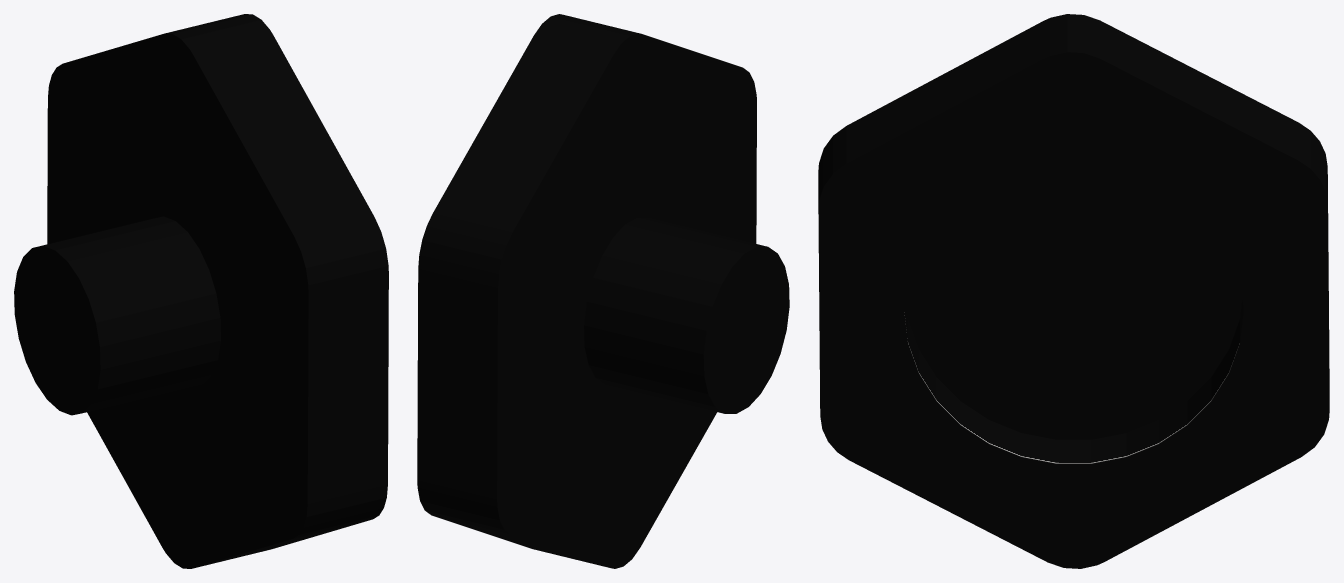
Rendered from right_arm_link6.usd.sapien.glb.
The picture shows the model from 3 angles, left to right: view 1: azimuth 30°, elevation 25°; view 2: azimuth 150°, elevation 25°; view 3: azimuth 270°, elevation 25°; orthographic projection. The views are drawn at different scales.
Visible parts, largest first — view 1: Mesh; view 2: Mesh; view 3: Mesh.
Part boxes in pixels (x1,y1,x2,y2): Mesh: [14, 14, 388, 568]; Mesh: [417, 14, 789, 568]; Mesh: [818, 14, 1329, 568].
Size of the model in its own units: 0.02 by 0.0504 by 0.0452.
1 material, 1 textured.
